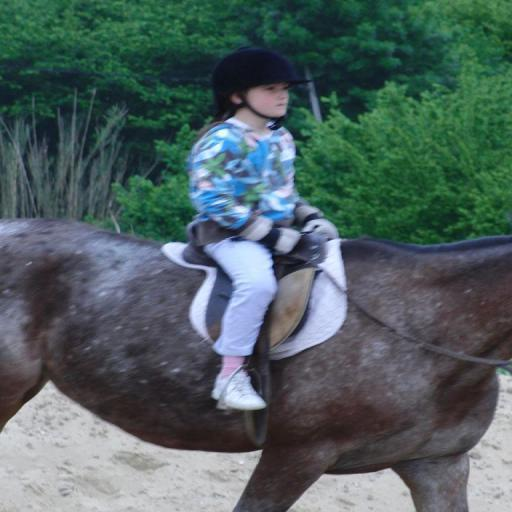horse: (0, 213, 511, 511)
